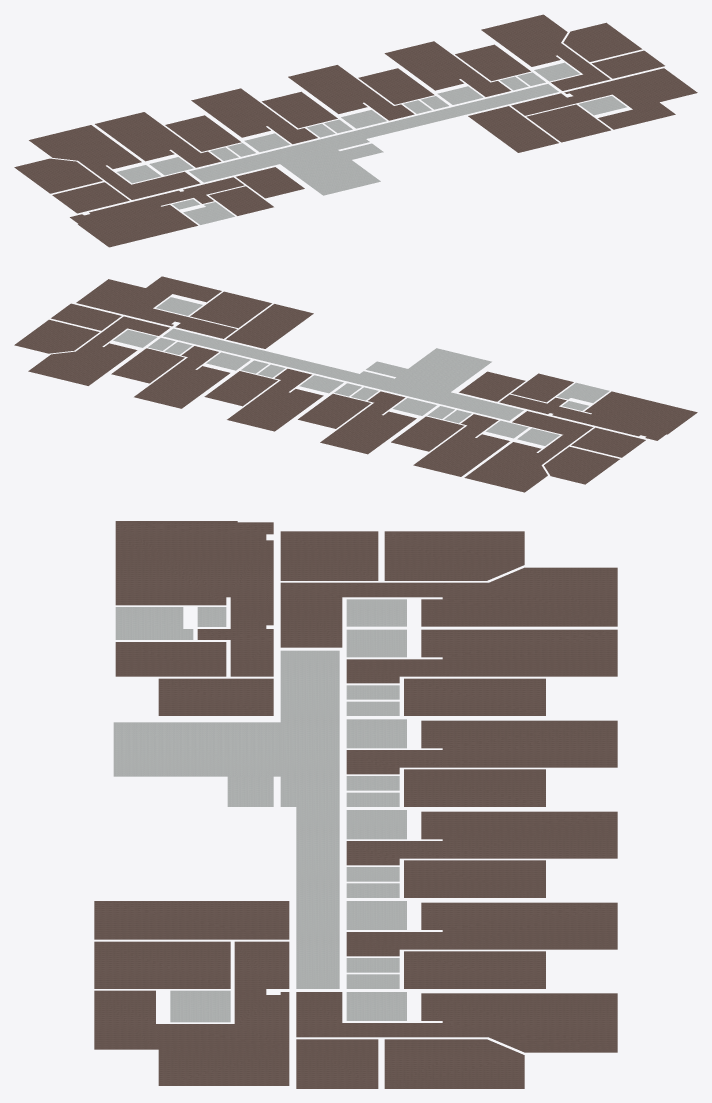
Rendered from Podlaha_2NP.obj.
3 views of the same model, one above another, from view 1: azimuth 30°, elevation 25°; view 2: azimuth 150°, elevation 25°; view 3: azimuth 270°, elevation 25° (orthographic). The views are drawn at different scales.
Visible parts, largest first — view 1: Podlaha_2NP; view 2: Podlaha_2NP; view 3: Podlaha_2NP.
Part boxes in pixels (x1,y1,x2,y2): Podlaha_2NP: (14,14,697,247); Podlaha_2NP: (14,276,697,492); Podlaha_2NP: (94,521,617,1088).
Size of the model in its own units: 3.45 by 0 by 1.34.
